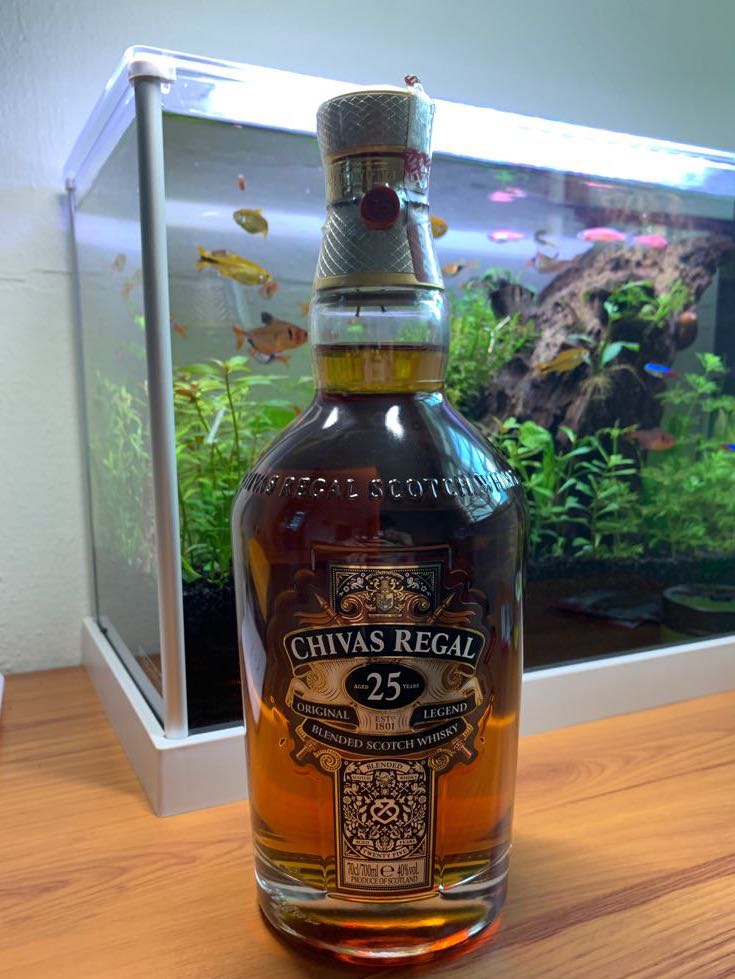Chivas Regal: (222, 81, 535, 972)
